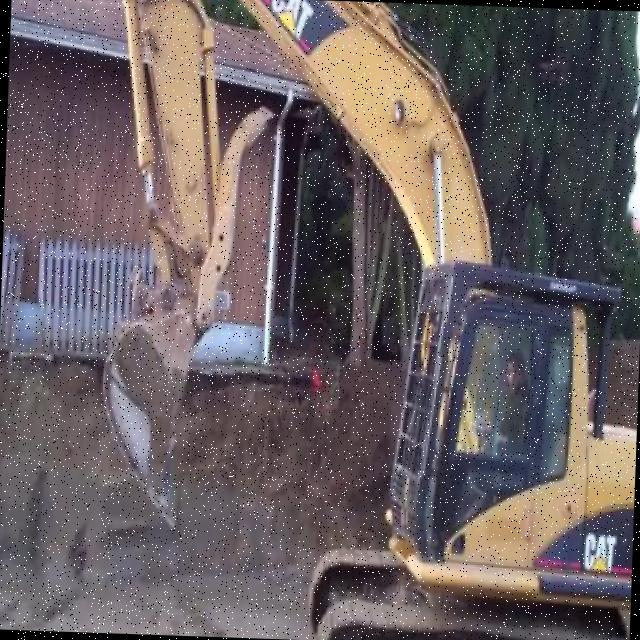Excavator: (89, 0, 640, 640)
